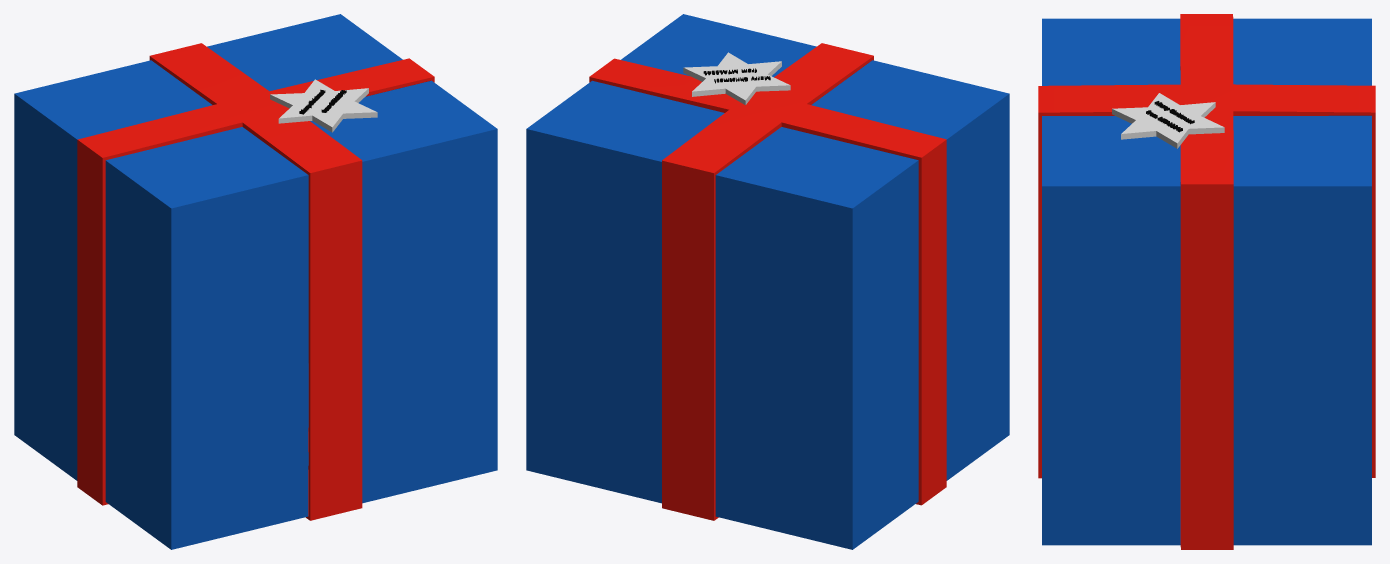
The model's file is present_large_bluered.FBX.
3 views of the same model, side by side, from view 1: azimuth 30°, elevation 25°; view 2: azimuth 150°, elevation 25°; view 3: azimuth 270°, elevation 25° (orthographic). The views are drawn at different scales.
Parts seen in each view (by area): view 1: Box001, Object001, Star001; view 2: Box001, Object001, Star001; view 3: Box001, Object001, Star001, Text001.
Boxes of the visible parts, left/top/right/bottom form: Box001: left=14, top=14, right=497, bottom=549; Object001: left=77, top=43, right=434, bottom=520; Star001: left=270, top=79, right=377, bottom=132; Box001: left=526, top=14, right=1009, bottom=549; Object001: left=589, top=43, right=946, bottom=520; Star001: left=683, top=52, right=790, bottom=105; Box001: left=1042, top=18, right=1371, bottom=545; Object001: left=1038, top=14, right=1375, bottom=549; Star001: left=1112, top=93, right=1224, bottom=148; Text001: left=1146, top=101, right=1194, bottom=132.
Bounding box in the file's own units: 122 × 126 × 102.
